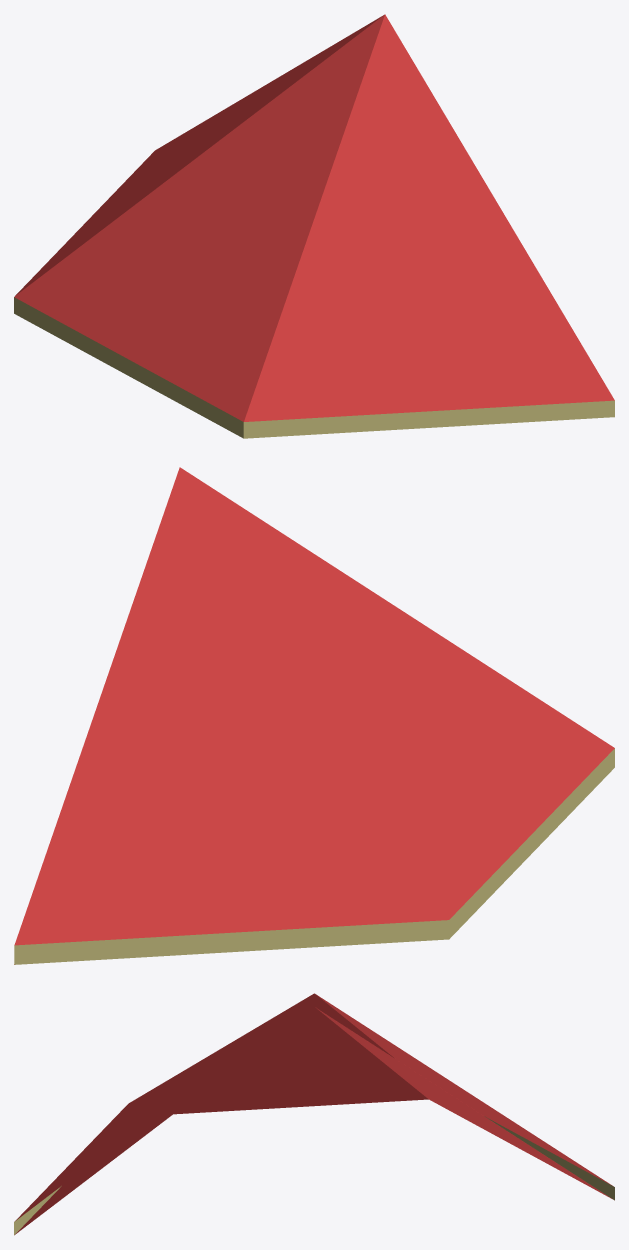
The picture shows the model from 3 angles, top to bottom: view 1: azimuth 30°, elevation 25°; view 2: azimuth 150°, elevation 25°; view 3: azimuth 270°, elevation 25°; orthographic projection. The views are drawn at different scales.
Bounding box in the file's own units: 2.17 × 4.05 × 1.67.
